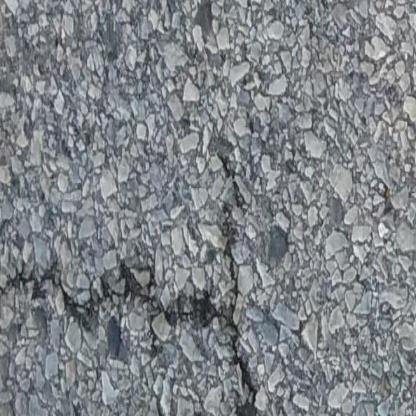Cracks: (0, 170, 267, 416)
